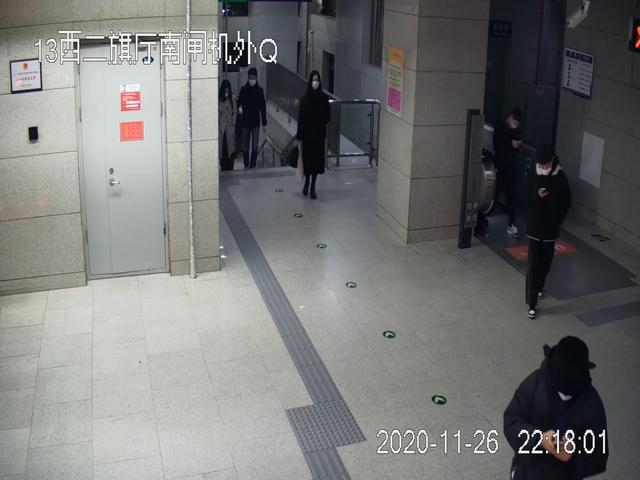person: (504, 335, 608, 480), (517, 144, 567, 320), (296, 71, 329, 201), (234, 66, 267, 171)
